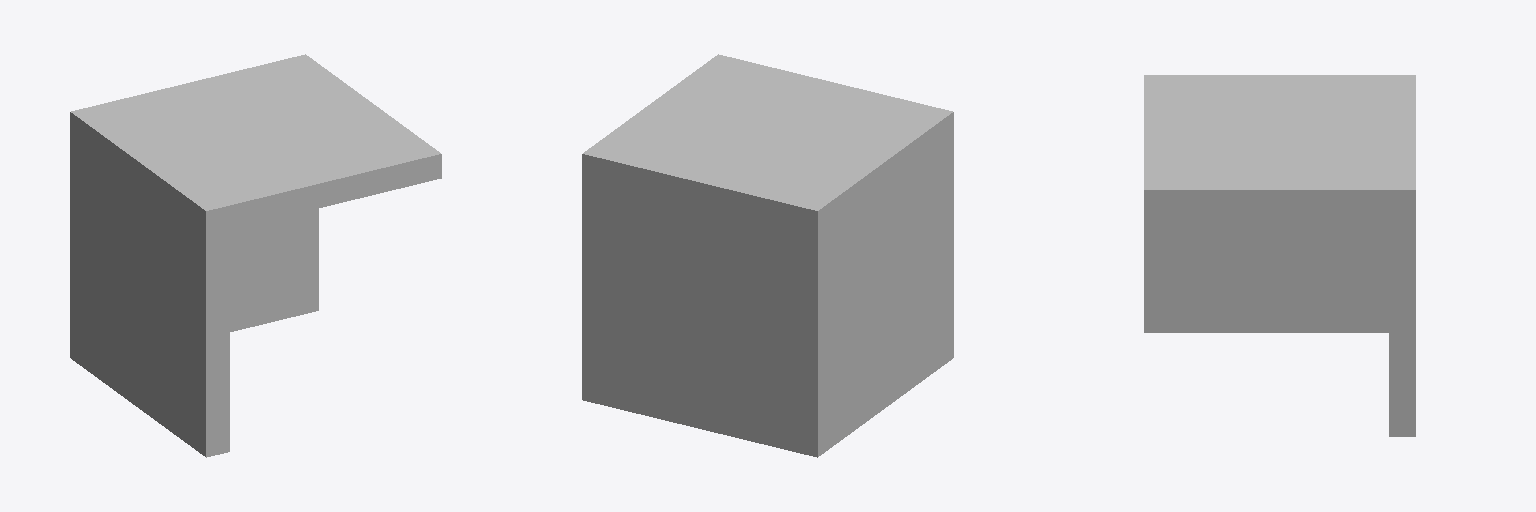
File: tiles_ceiling_corner_west.obj
3 views of the same model, side by side, from view 1: azimuth 30°, elevation 25°; view 2: azimuth 150°, elevation 25°; view 3: azimuth 270°, elevation 25° (orthographic).
Visible parts, largest first — view 1: Wall_Corner_Roof_West_Cube.010; view 2: Wall_Corner_Roof_West_Cube.010; view 3: Wall_Corner_Roof_West_Cube.010.
Boxes of the visible parts, x1=… form: Wall_Corner_Roof_West_Cube.010: x1=70, y1=54, x2=441, y2=457; Wall_Corner_Roof_West_Cube.010: x1=582, y1=54, x2=953, y2=457; Wall_Corner_Roof_West_Cube.010: x1=1144, y1=75, x2=1415, y2=436.
Size of the model in its own units: 2 by 2 by 2.